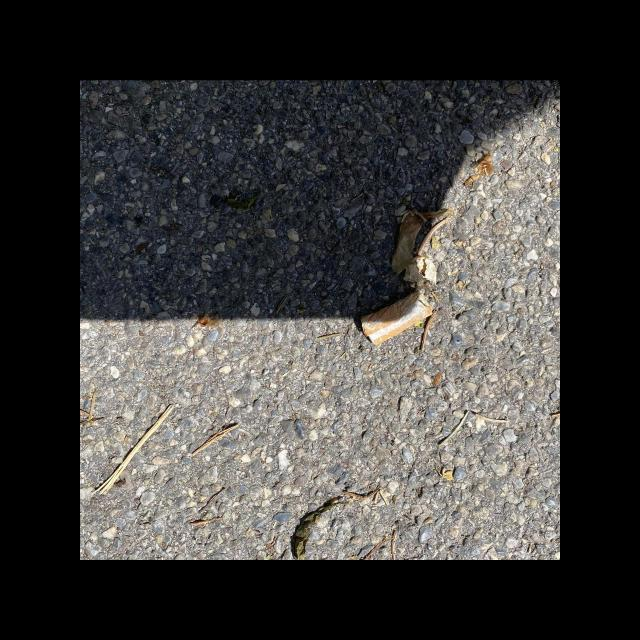cigarette: (360, 286, 434, 346)
